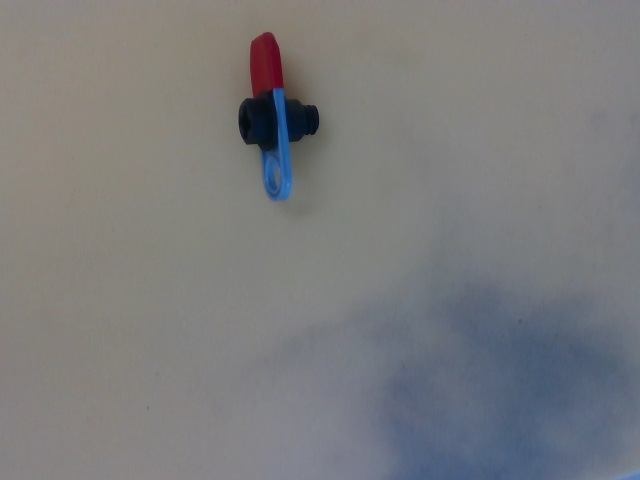part_1_good: (233, 30, 325, 207)
